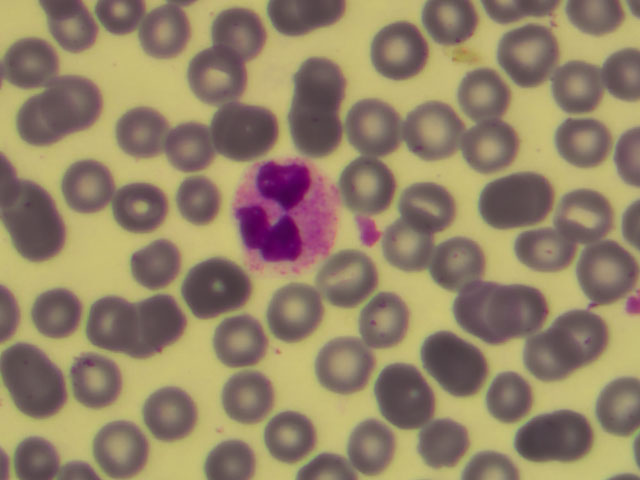Platelets: (359, 214, 378, 244), (626, 295, 640, 316)
RBC: (2, 33, 62, 92), (45, 67, 105, 126), (10, 92, 70, 151), (61, 156, 121, 215), (10, 213, 70, 272), (2, 179, 62, 238), (103, 179, 163, 238), (110, 103, 170, 162), (156, 118, 216, 177), (217, 98, 277, 157), (187, 49, 247, 108), (207, 9, 267, 68), (137, 5, 197, 64), (293, 47, 353, 106), (287, 100, 347, 159), (334, 96, 394, 155), (407, 104, 467, 163), (371, 20, 431, 79), (498, 25, 558, 84), (423, 2, 483, 61), (457, 67, 517, 126), (464, 118, 524, 177), (551, 112, 611, 171), (550, 58, 610, 117), (557, 186, 617, 245), (514, 219, 574, 278), (508, 165, 568, 224), (471, 175, 531, 234), (405, 176, 465, 235), (341, 151, 401, 210), (382, 216, 442, 275), (426, 231, 486, 290), (451, 277, 511, 336), (493, 279, 553, 338), (525, 320, 585, 379), (556, 304, 616, 363), (483, 363, 543, 422), (580, 375, 640, 434), (549, 397, 609, 456), (508, 410, 568, 469), (414, 414, 474, 473), (378, 371, 438, 430), (424, 333, 484, 392), (319, 331, 379, 390), (359, 293, 419, 352), (313, 249, 373, 308), (263, 284, 323, 343), (203, 311, 263, 370), (183, 261, 243, 320), (125, 236, 185, 295), (135, 297, 195, 356), (76, 298, 136, 357), (17, 282, 77, 341), (10, 364, 70, 423), (67, 352, 127, 411), (90, 417, 150, 476), (133, 386, 193, 445), (220, 370, 280, 429), (264, 407, 324, 466), (341, 414, 401, 473), (1, 338, 60, 397), (48, 1, 108, 59)
WBC: (227, 157, 344, 273)
